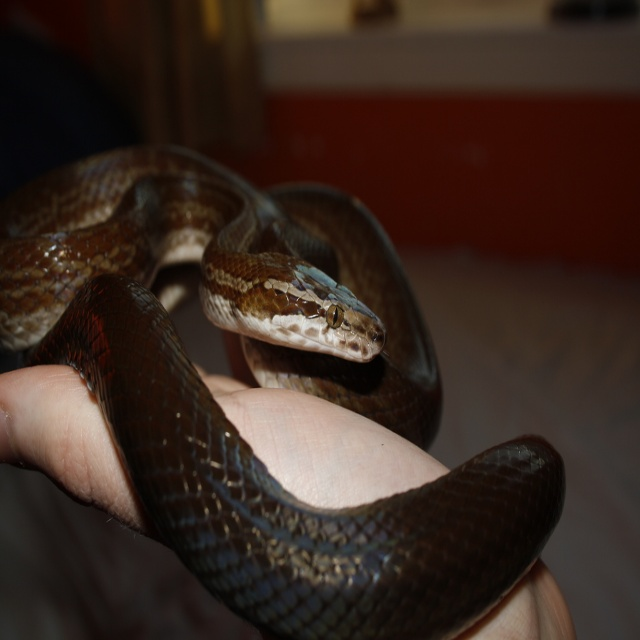Snake: (0, 136, 567, 639)
